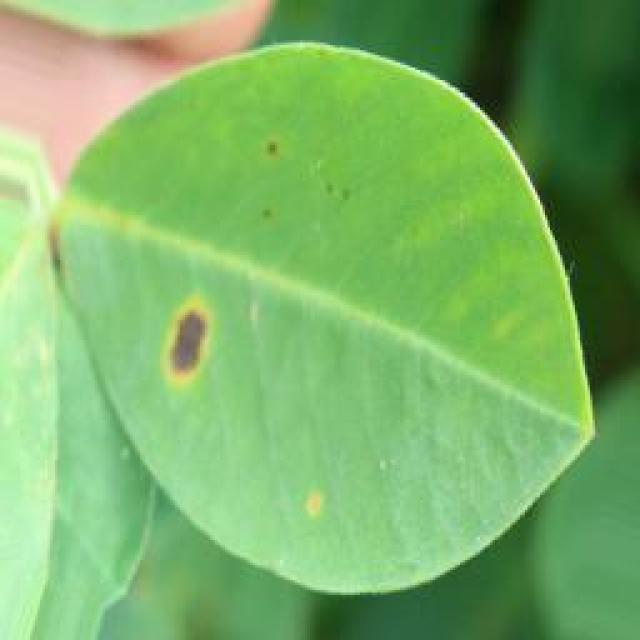Early_leaf_spot: (148, 289, 263, 428), (244, 104, 359, 232)
